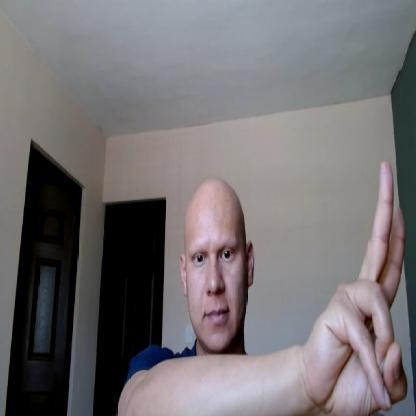V: (311, 159, 408, 416)
